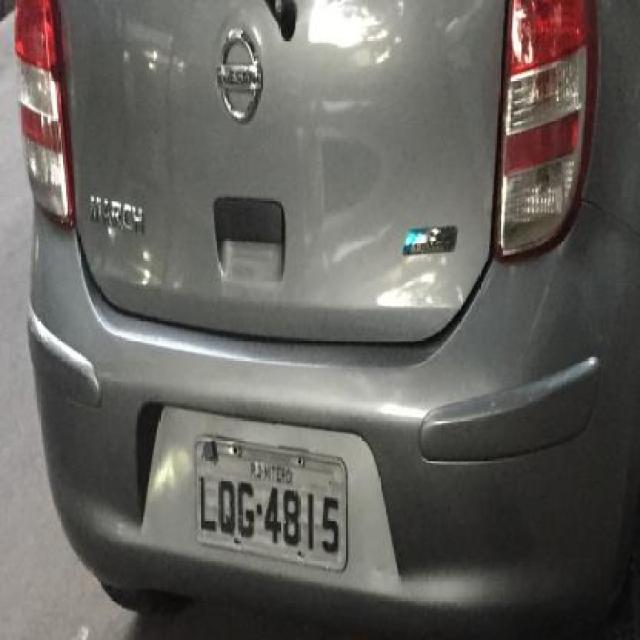old_plate: (186, 432, 356, 576)
